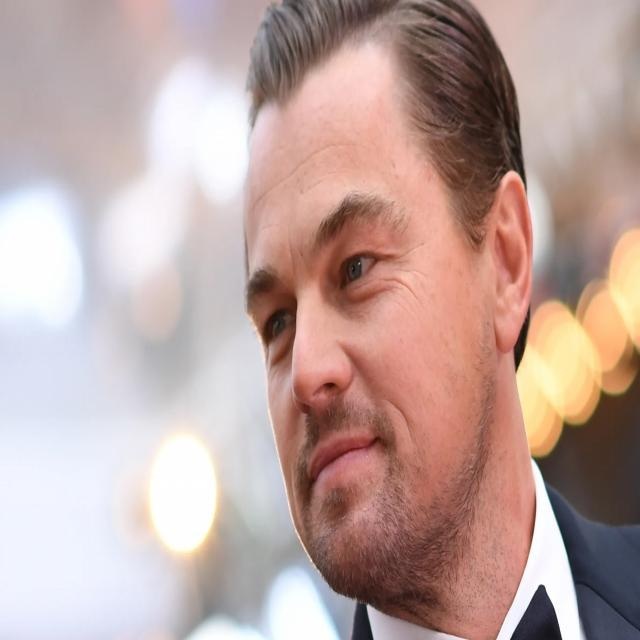Nonhelmet: (221, 0, 559, 602)
